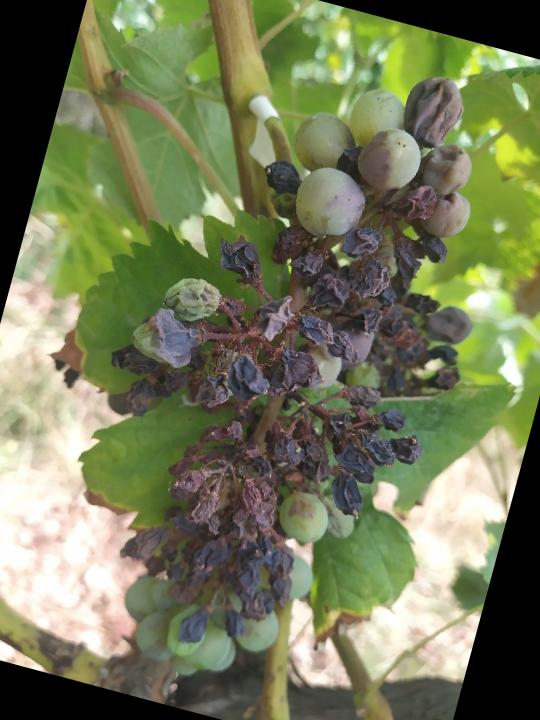grape: (33, 6, 540, 720)
